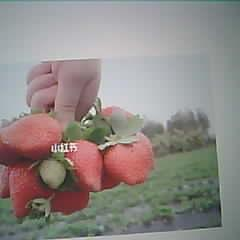straw-ripe: (6, 112, 62, 157), (104, 136, 152, 184)
straw-unripe: (40, 160, 67, 188)
